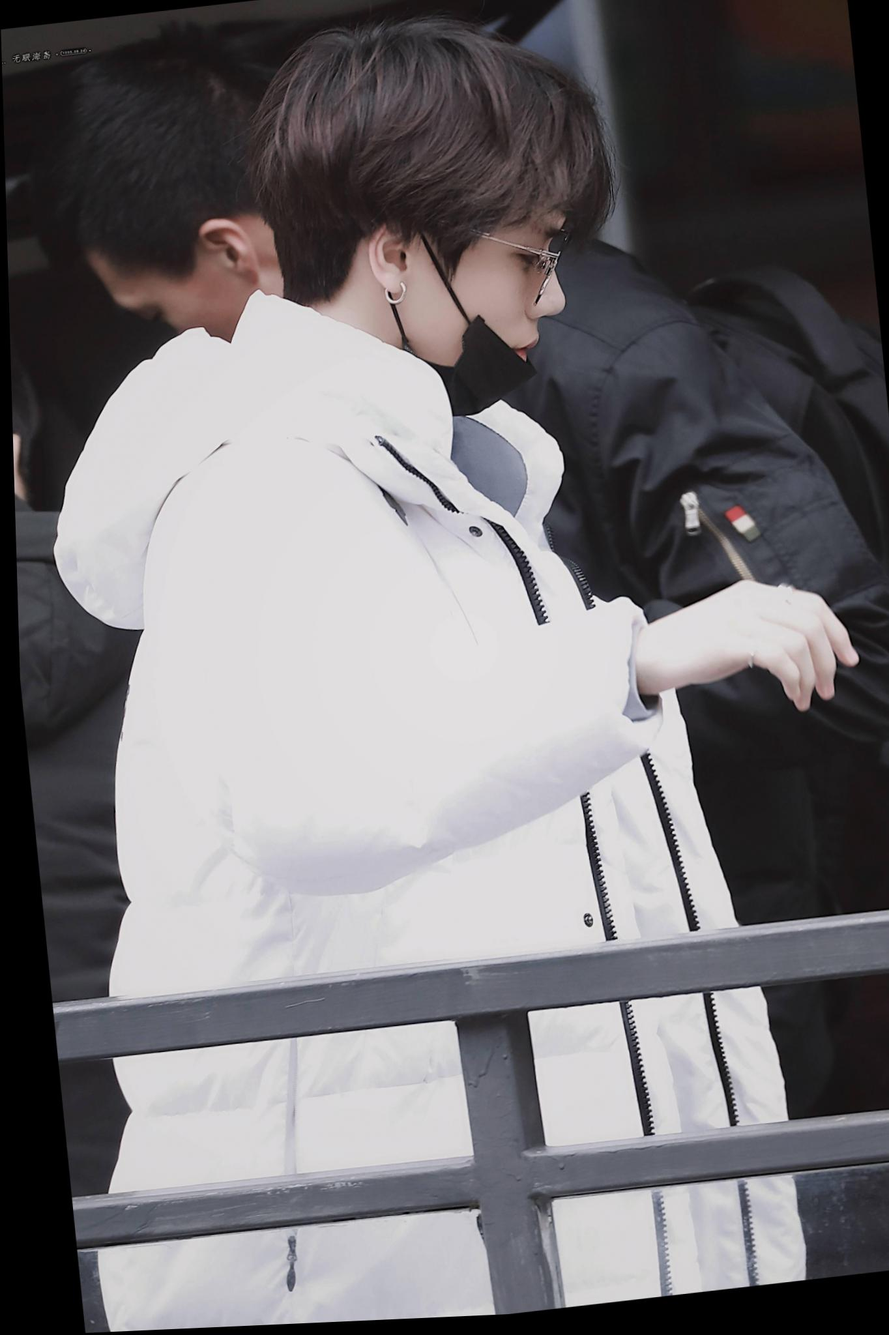WRONG: (433, 178, 584, 413)
